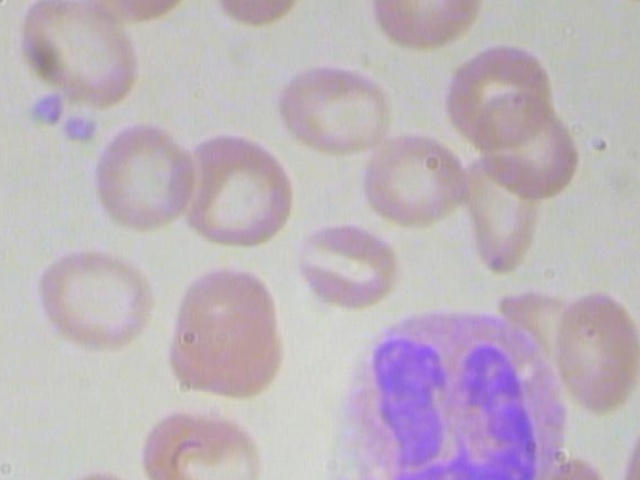Platelets: (22, 87, 66, 131), (57, 107, 99, 148)
RBC: (164, 126, 298, 257), (4, 0, 143, 116), (31, 244, 165, 363), (444, 26, 556, 158), (82, 118, 205, 237), (269, 52, 398, 161), (449, 147, 551, 283), (169, 261, 285, 373), (548, 284, 640, 425), (357, 127, 471, 234), (291, 212, 399, 319), (134, 400, 269, 480), (360, 0, 485, 61)
WBC: (320, 302, 577, 480)
